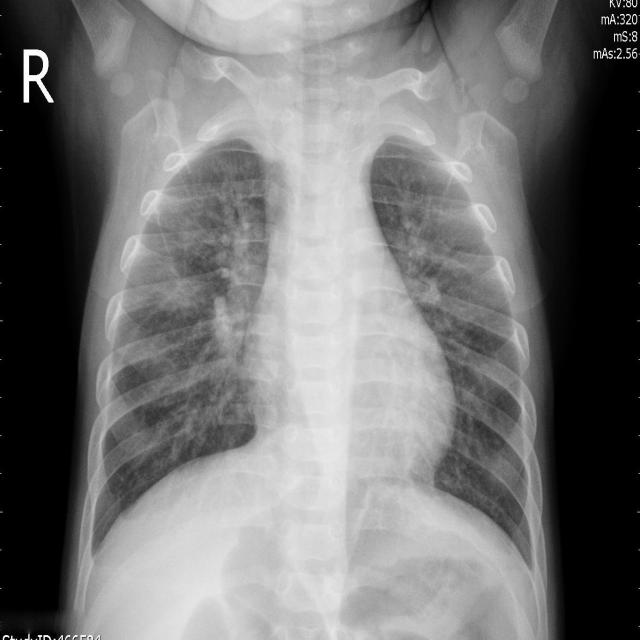low-pneumonia: (208, 190, 268, 378), (384, 217, 453, 321)
